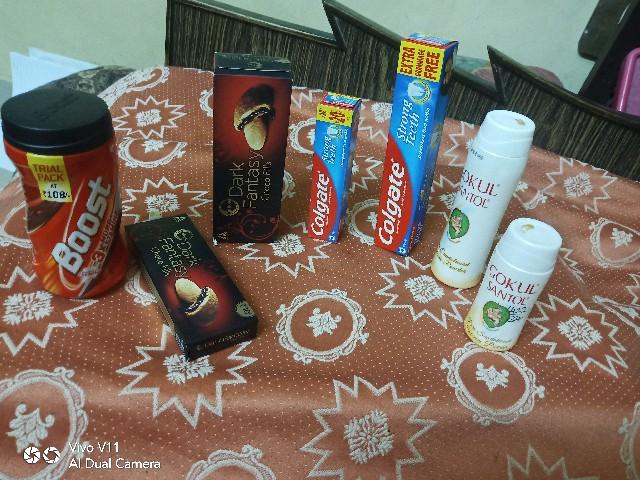boost small: (5, 91, 126, 307)
colgatetoothpaste big: (368, 21, 457, 260)
colgatetoothpaste small: (296, 64, 361, 265)
darkfantasy big: (209, 30, 294, 252)
darkfantasy small: (123, 208, 258, 374)
gokulsantol big: (430, 107, 534, 294)
gokulsantol small: (465, 217, 585, 367)
